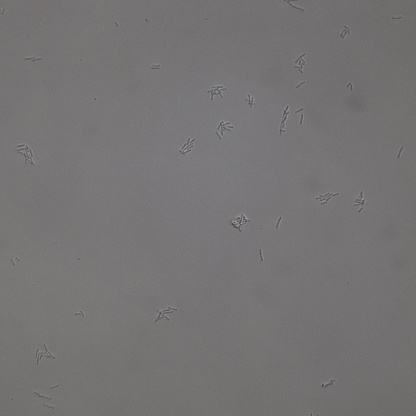R(colony): (35, 344, 57, 364), (229, 213, 250, 232), (16, 143, 34, 165), (155, 306, 178, 323), (314, 191, 339, 206), (216, 120, 234, 139), (179, 136, 196, 156), (278, 106, 289, 135), (352, 191, 367, 212), (207, 85, 227, 100), (294, 53, 307, 74), (320, 379, 335, 389), (8, 256, 21, 267), (340, 25, 351, 38), (25, 55, 42, 63), (245, 95, 255, 107)
